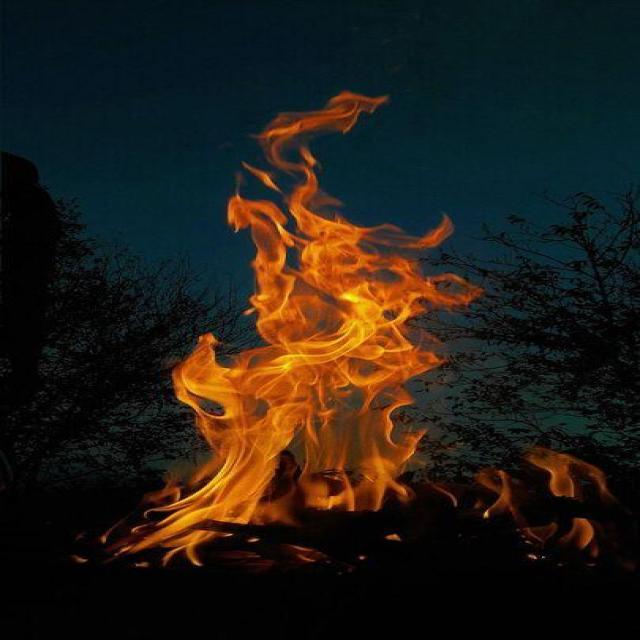Fire: (148, 71, 452, 542)
